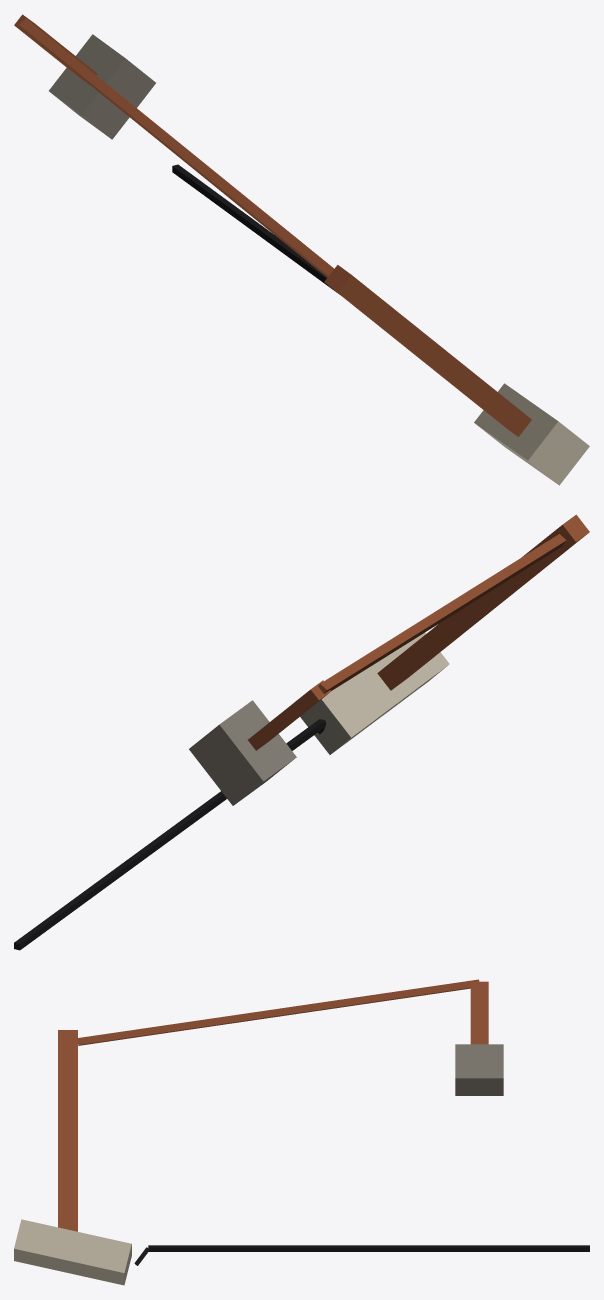
3 renders of one model, top to bottom at view 1: azimuth 30°, elevation 25°; view 2: azimuth 150°, elevation 25°; view 3: azimuth 270°, elevation 25°, orthographic. The views are drawn at different scales.
Parts seen in each view (by area): view 1: t00_g29_p6; view 2: t00_g29_p6; view 3: t00_g29_p6.
Boxes of the visible parts, x1,y1,x2,y2 form: t00_g29_p6: (14, 14, 589, 485); t00_g29_p6: (14, 514, 589, 950); t00_g29_p6: (14, 979, 589, 1285).
Bounding box in the file's own units: 11.36 × 12.26 × 28.68.
